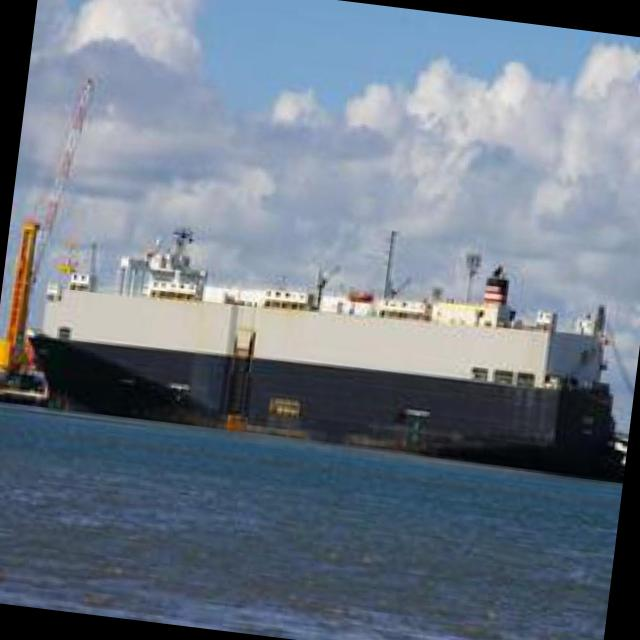boat: (30, 272, 622, 480)
